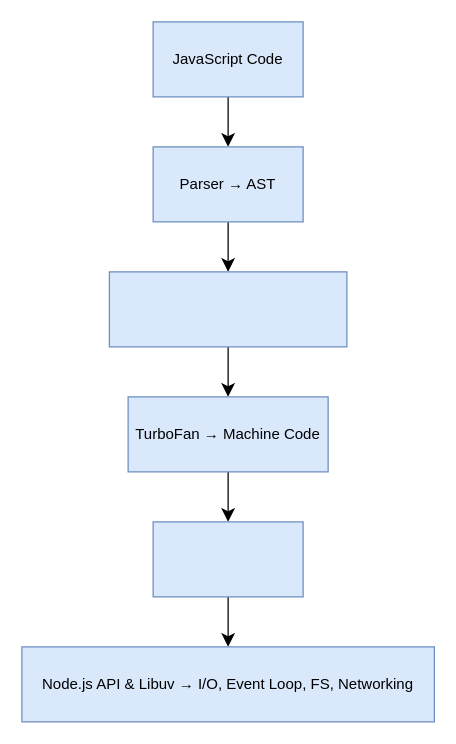
This 456x744 diagram has some shape labels left out. The box of each missing label's shape, as (x1, y1, x2, y2) in pixels:
CPU Execution: (152, 521, 303, 597)
Ignition Interpreter → Bytecode: (108, 271, 347, 347)
